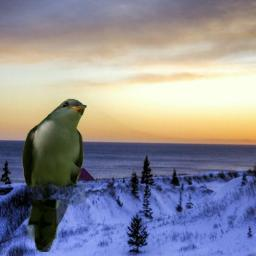Cuckoo: (21, 98, 87, 252)
